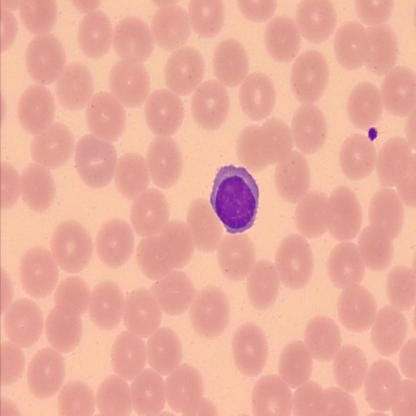Lymphocyte: (210, 164, 261, 234)
